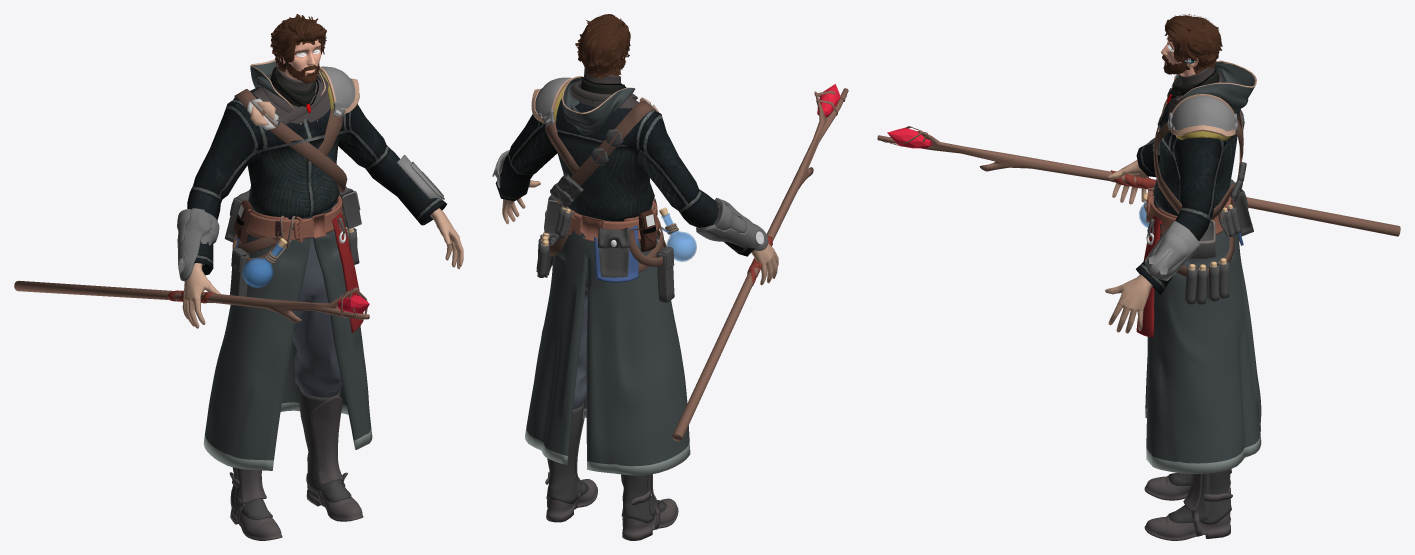
The model's file is star_aventure_black_mage.glb.
3 renders of one model, left to right at view 1: azimuth 30°, elevation 25°; view 2: azimuth 150°, elevation 25°; view 3: azimuth 270°, elevation 25°, orthographic.
Parts seen in each view (by area): view 1: Object_17, Object_2, Object_90, Object_91, Object_70, Object_26, Object_39, Object_93, Object_92, Object_12, Object_21, Object_50 (+11 smaller); view 2: Object_17, Object_2, Object_70, Object_26, Object_21, Object_90, Object_12, Object_38, Object_7, Object_27, Object_50, Object_92 (+14 smaller); view 3: Object_17, Object_2, Object_70, Object_90, Object_21, Object_39, Object_26, Object_66, Object_41, Object_7, Object_38, Object_50 (+3 smaller).
Part boxes in pixels (x1,y1,x2,y2): Object_17: (205, 204, 371, 460); Object_2: (187, 87, 446, 275); Object_90: (229, 396, 363, 540); Object_91: (255, 230, 342, 397); Object_70: (14, 280, 369, 322); Object_26: (230, 388, 351, 519); Object_39: (182, 208, 463, 328); Object_93: (252, 63, 330, 127); Object_92: (246, 195, 344, 241); Object_12: (177, 208, 219, 281); Object_21: (270, 14, 326, 71); Object_50: (233, 89, 347, 192); Object_17: (526, 212, 689, 466); Object_2: (495, 98, 758, 256); Object_70: (672, 88, 848, 441); Object_26: (546, 403, 666, 523); Object_21: (575, 14, 630, 79); Object_90: (545, 407, 678, 540); Object_12: (696, 198, 768, 250); Object_38: (525, 408, 690, 475); Object_7: (562, 77, 634, 134); Object_27: (598, 227, 630, 277); Object_50: (556, 100, 655, 203); Object_92: (567, 200, 659, 242); Object_17: (1145, 198, 1261, 463); Object_2: (1136, 81, 1238, 294); Object_70: (877, 126, 1400, 236); Object_90: (1144, 474, 1232, 540); Object_21: (1165, 14, 1222, 74); Object_39: (1105, 160, 1152, 333); Object_26: (1168, 469, 1231, 524); Object_66: (1145, 220, 1201, 280); Object_41: (1167, 95, 1238, 132); Object_7: (1172, 61, 1255, 112); Object_38: (1145, 408, 1261, 473); Object_50: (1153, 89, 1243, 220).
Bounding box in the file's own units: 1.25 × 1.92 × 1.82.
92 materials, 1 textured.
